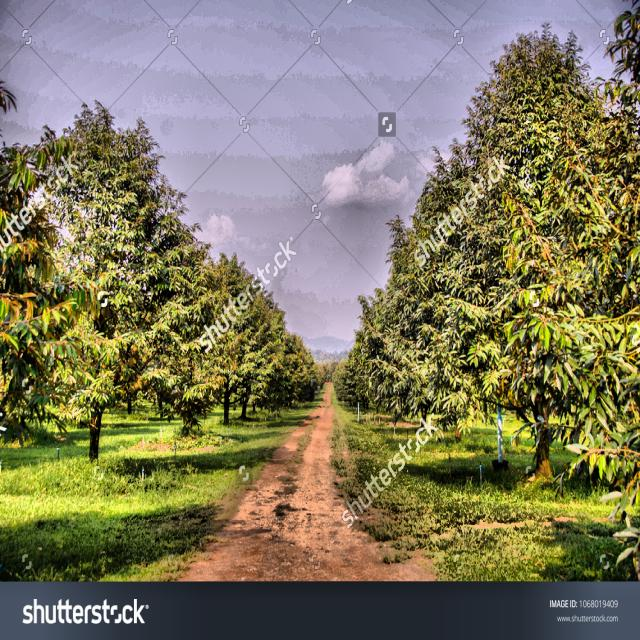arvore: (527, 358, 558, 495), (86, 361, 105, 474), (219, 354, 233, 434), (240, 371, 248, 423)
